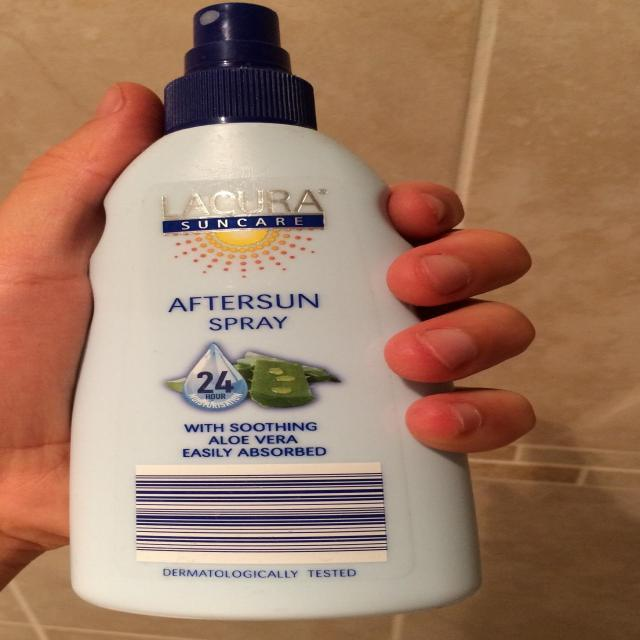HDPE Plastic: (62, 4, 490, 632)
